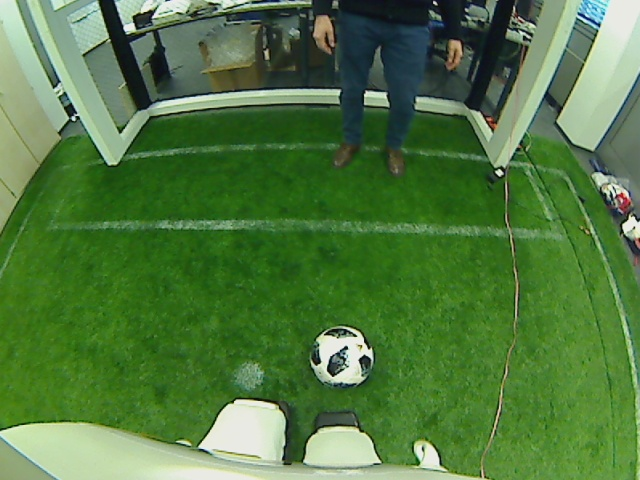ball: (306, 324, 375, 388)
